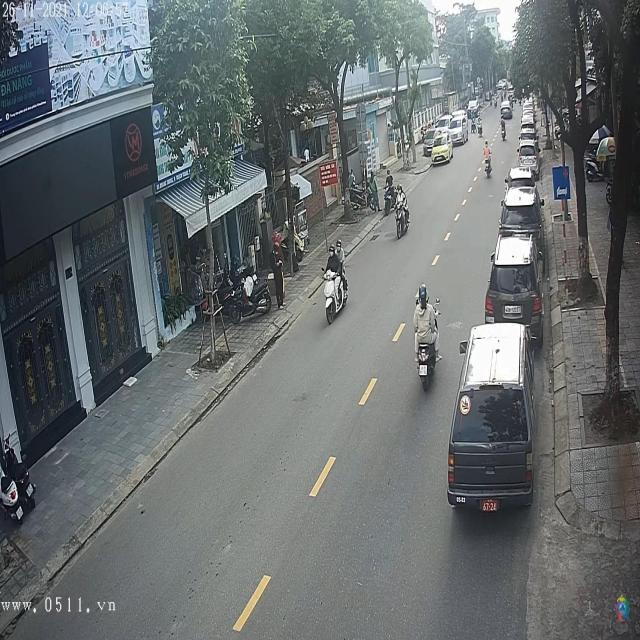car: (449, 324, 535, 512), (486, 235, 544, 331), (500, 187, 544, 237), (517, 146, 537, 168), (517, 130, 537, 150), (500, 107, 512, 121)
motorcycle: (414, 319, 443, 390), (321, 270, 347, 325), (394, 199, 412, 241)
